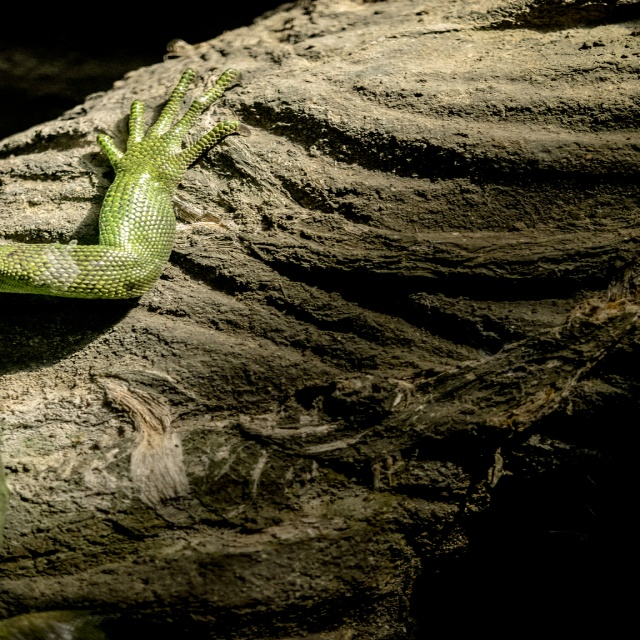Lizard: (21, 74, 266, 316)
